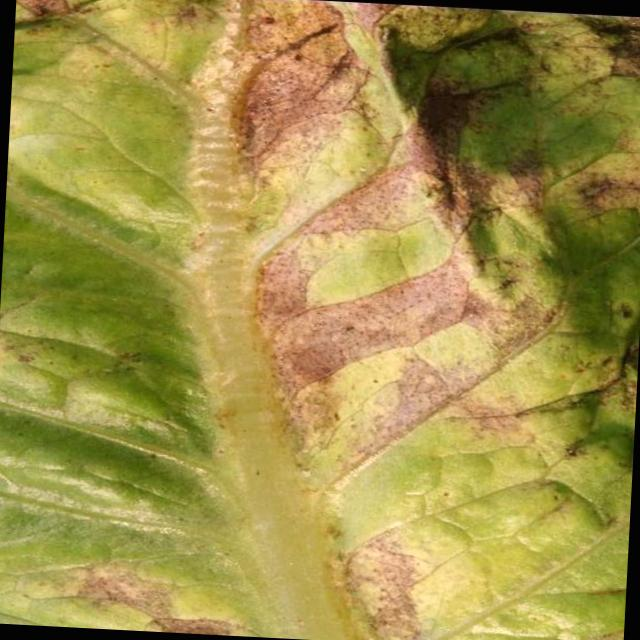Septoria_Blight_on_lettuce: (211, 2, 640, 640)
